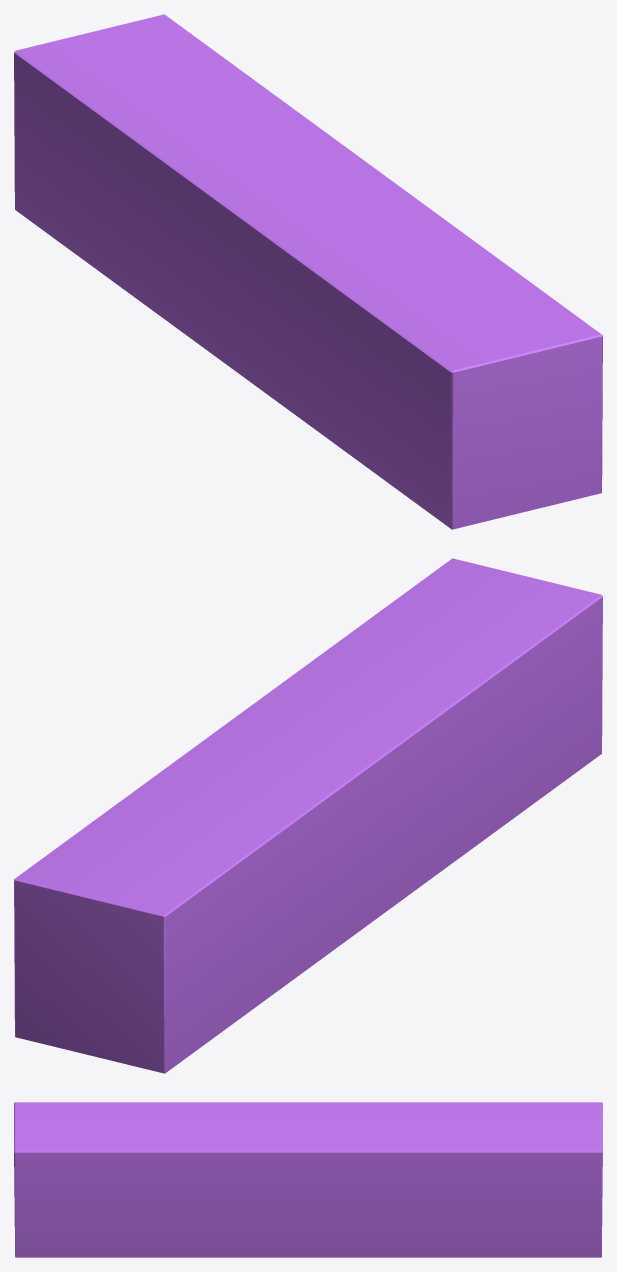
The model's file is purpleBlock_edit.fbx.
The picture shows the model from 3 angles, top to bottom: view 1: azimuth 30°, elevation 25°; view 2: azimuth 150°, elevation 25°; view 3: azimuth 270°, elevation 25°; orthographic projection. The views are drawn at different scales.
Parts seen in each view (by area): view 1: Purple_Block; view 2: Purple_Block; view 3: Purple_Block.
Boxes of the visible parts, <box> form: Purple_Block: <box>14,14,602,529</box>; Purple_Block: <box>14,558,602,1073</box>; Purple_Block: <box>14,1102,602,1257</box>.
Bounding box in the file's own units: 100 × 100 × 500.
